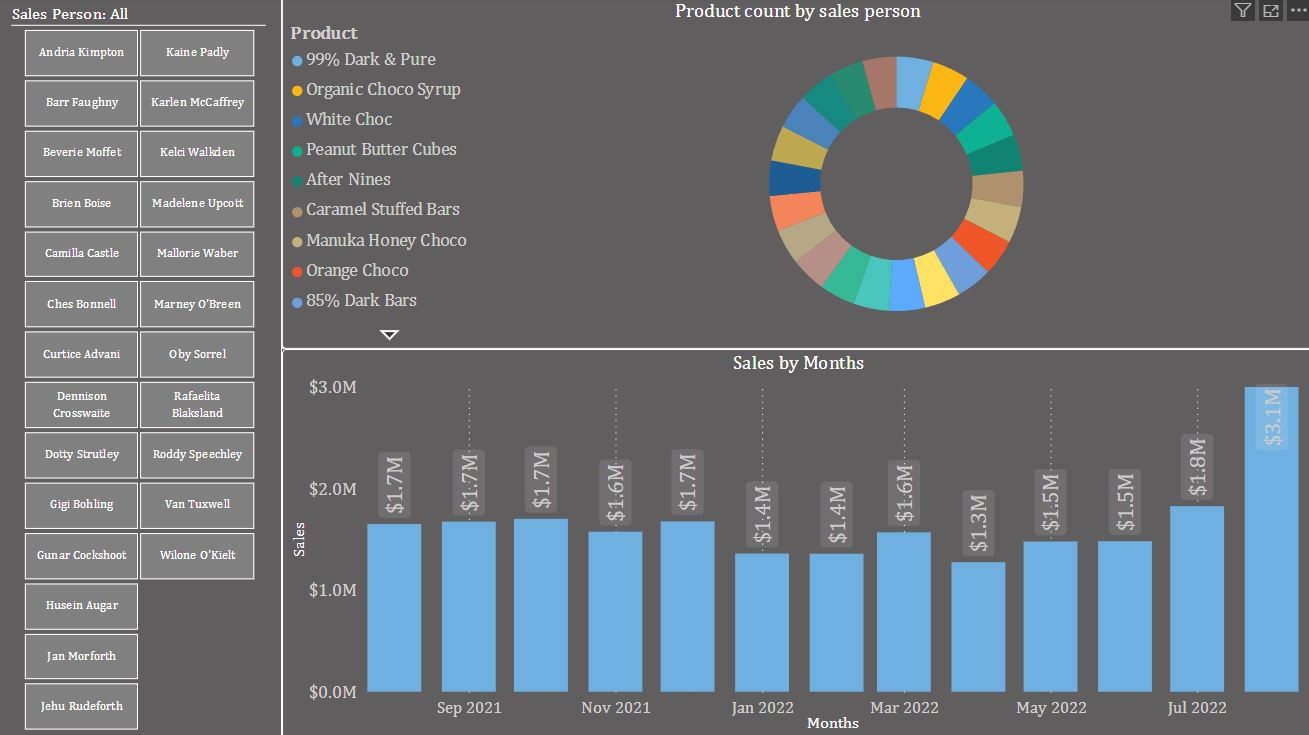

The dashboard page shown, as its layout file describes it:
{"tool":"powerbi","page":{"name":"Sales by staff","canvas":[1280,720],"ordinal":0},"visuals":[{"type":"slicer","fields":{"Values":["actuals.Sales Person"]},"box":[0,0,278.9,720.2],"z":0},{"type":"donutChart","title":"Product count by sales person","fields":{"Category":["actuals.Product"],"Y":["CountNonNull(actuals.Product)"]},"box":[278.9,0,1001.1,342.1],"z":1000},{"type":"clusteredColumnChart","fields":{"Category":["actuals.Months"],"Y":["Sum(actuals.Sales)"]},"box":[278.9,342.1,1002,378.1],"z":2000}]}

Visuals, with their boxes in screenshot pixels (x1, y1, x2, y2), scaled from the page's 1280x720 canvas onto the 1309x735 screenshot:
slicer - actuals.Sales Person: box(0, 0, 285, 734)
"Product count by sales person" donutChart: box(285, 0, 1308, 349)
clusteredColumnChart - actuals.Months x Sum(actuals.Sales): box(285, 349, 1308, 734)
